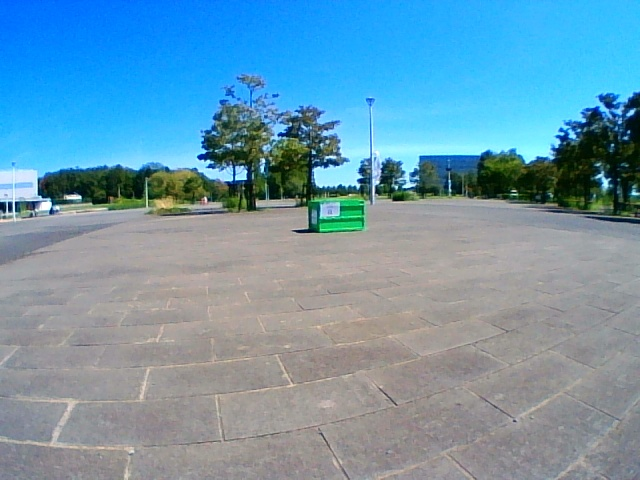green_box: (309, 197, 366, 232)
tag: (321, 202, 340, 216)
